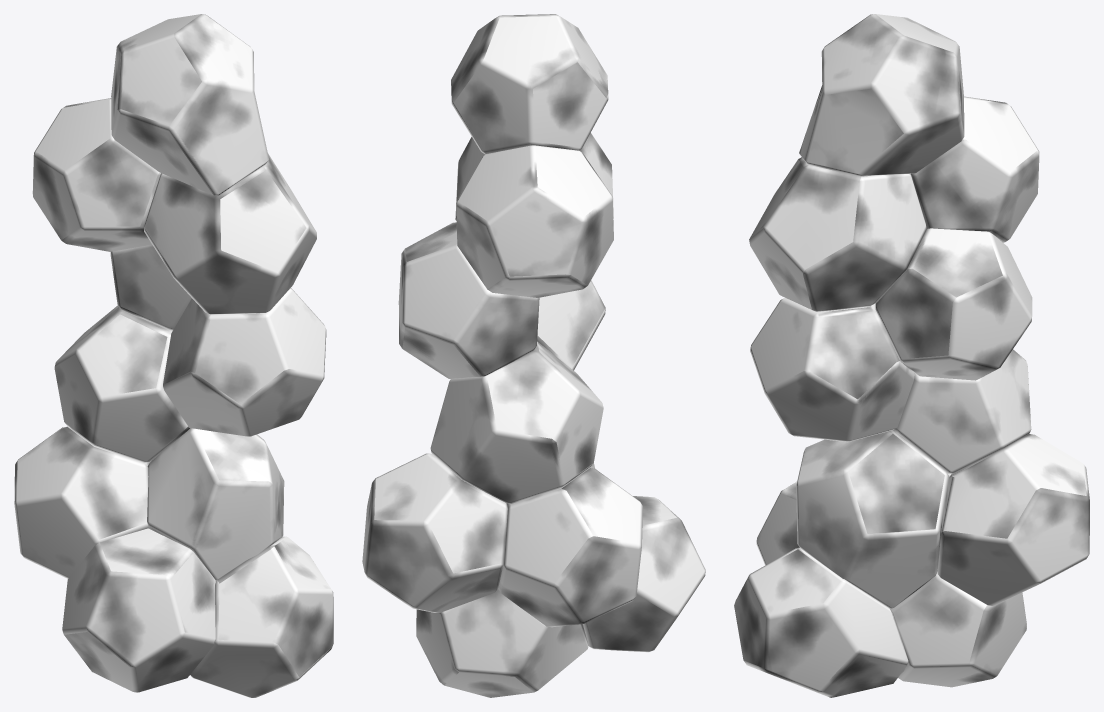
File: SM_Statue_Abstract1.glb
3 renders of one model, left to right at view 1: azimuth 30°, elevation 25°; view 2: azimuth 150°, elevation 25°; view 3: azimuth 270°, elevation 25°, orthographic.
Parts seen in each view (by area): view 1: SM_Statue_Abstract1; view 2: SM_Statue_Abstract1; view 3: SM_Statue_Abstract1.
Part boxes in pixels (x1=…): SM_Statue_Abstract1: x1=14, y1=14, x2=333, y2=697; SM_Statue_Abstract1: x1=362, y1=14, x2=705, y2=697; SM_Statue_Abstract1: x1=734, y1=14, x2=1089, y2=697.
Size of the model in its own units: 1.15 by 2.97 by 1.45.
1 material, 1 textured.
